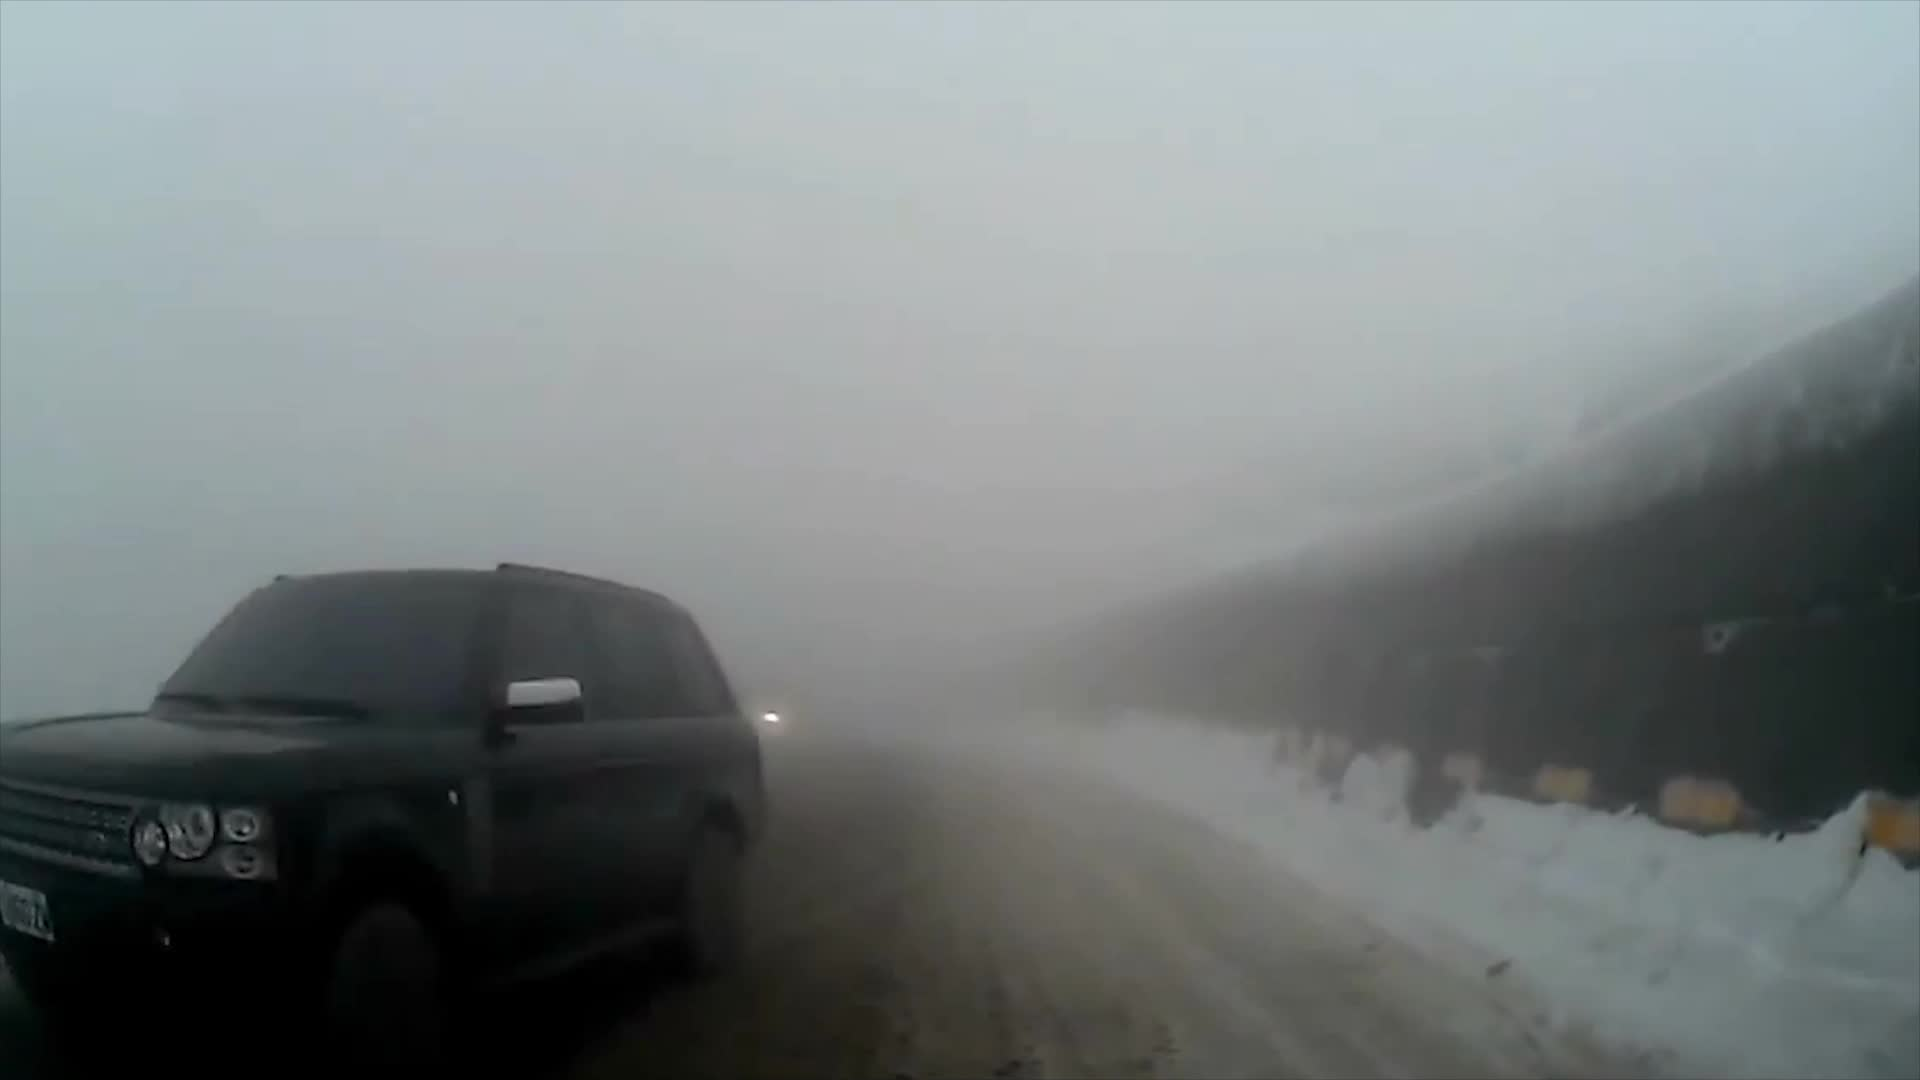vehicle: (0, 560, 764, 1058)
